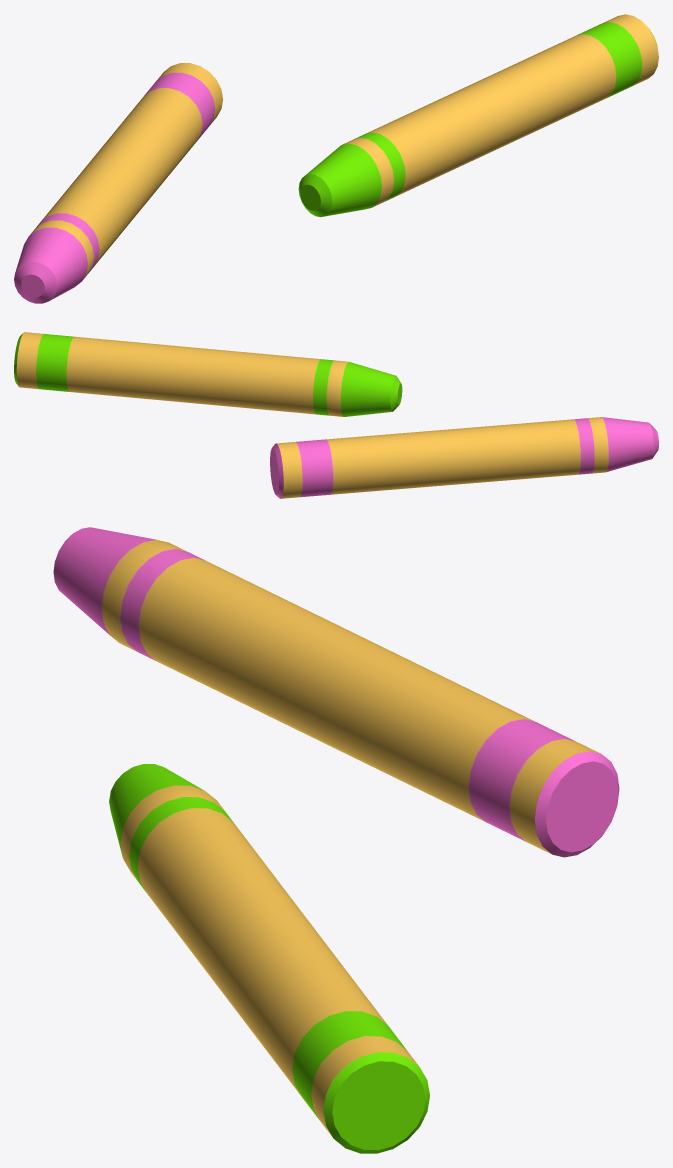
Rendered from kureyon.fbx.
3 views of the same model, one above another, from view 1: azimuth 30°, elevation 25°; view 2: azimuth 150°, elevation 25°; view 3: azimuth 270°, elevation 25° (orthographic). The views are drawn at different scales.
Parts seen in each view (by area): view 1: kureyon1, kureyon2; view 2: kureyon2, kureyon1; view 3: kureyon2, kureyon1.
Part boxes in pixels (x1=…): kureyon1: x1=298, y1=14, x2=658, y2=217; kureyon2: x1=14, y1=63, x2=222, y2=303; kureyon2: x1=270, y1=417, x2=658, y2=498; kureyon1: x1=14, y1=332, x2=402, y2=416; kureyon2: x1=53, y1=527, x2=619, y2=857; kureyon1: x1=109, y1=764, x2=429, y2=1153.
Bounding box in the file's own units: 6.03 × 0.51 × 2.57.
